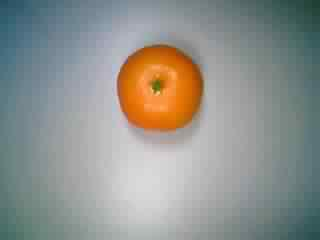orange: (108, 38, 203, 140)
